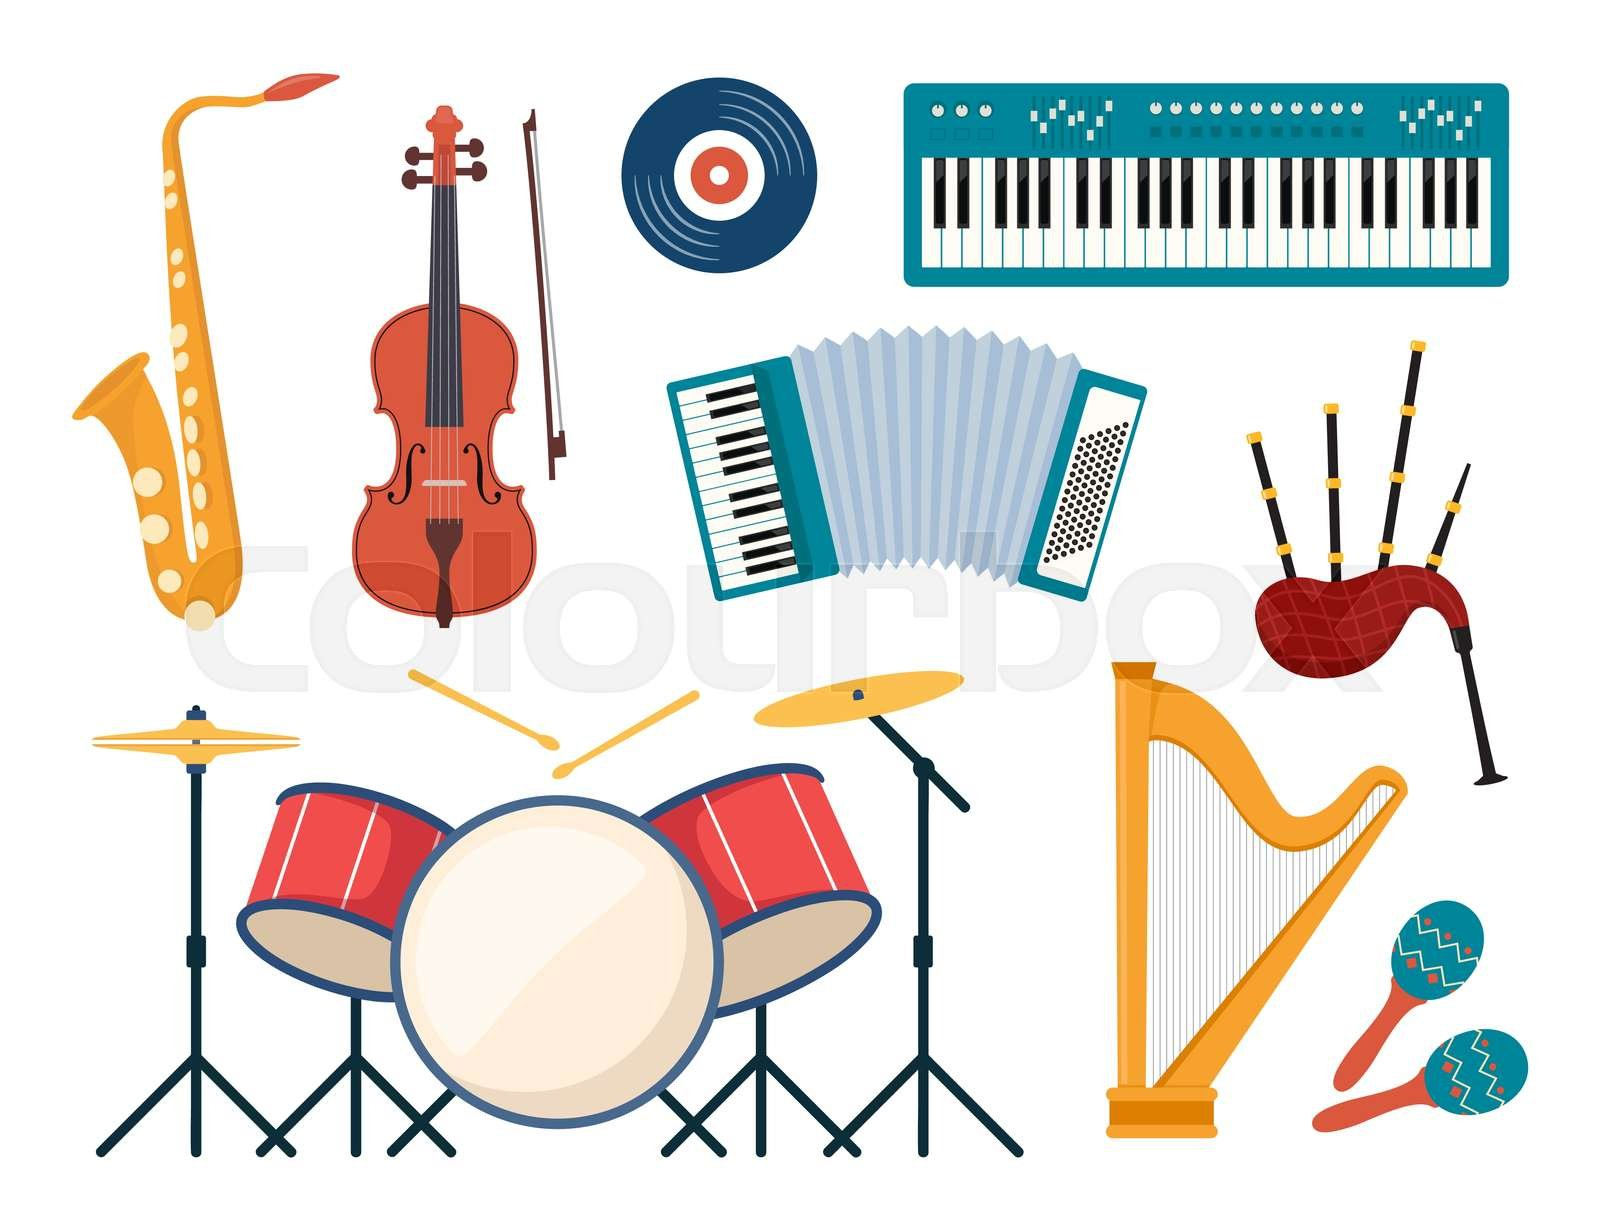Piano: (868, 22, 1600, 365)
Saxophone: (49, 48, 371, 669)
Violin: (256, 69, 651, 754)
